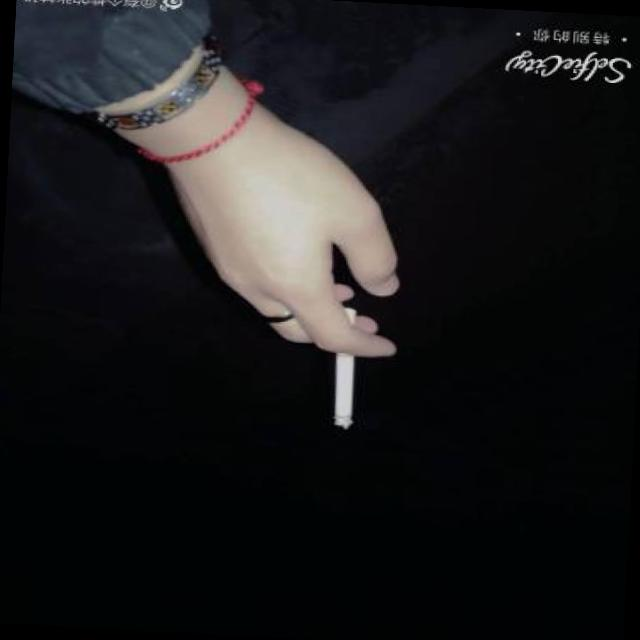smoke: (331, 354, 356, 426)
